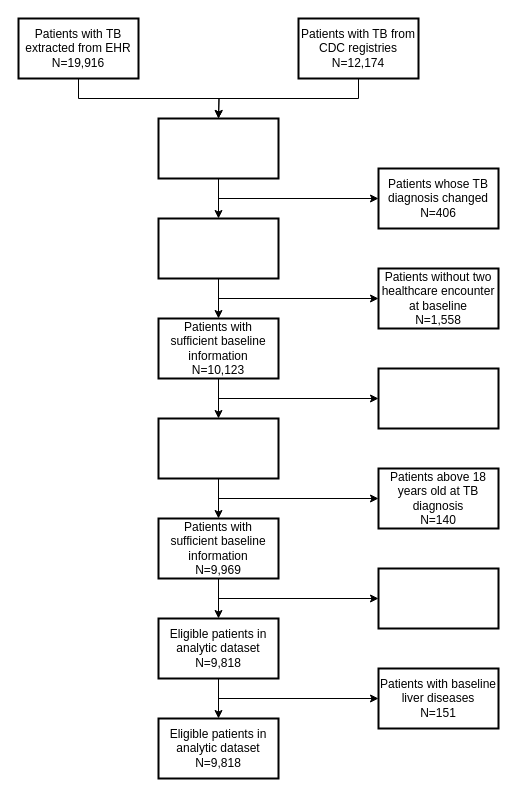
The diagram is 516 pixels wide and 796 high, and some of its shapes have lost their labels. The shapes that lost their labels are listed below. From the top down, each one's centre as x and y in pixels, then its label:
At point 218,148: "Patients linked with both data sources N=12,087".
At point 218,248: "Patients with confirmed TB diagnosis N=11,681".
At point 438,398: "Patients at least one healthcare encounter during follow-up N=14".
At point 218,448: "Patients with sufficient baseline information N=10,109".
At point 438,598: "Patients with pregnancy during TB treatment N=151".
